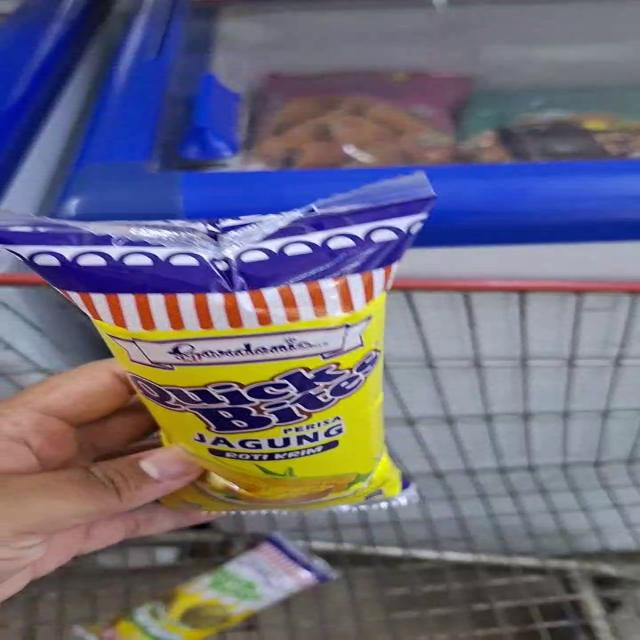Roti: (34, 214, 470, 514), (79, 534, 357, 640)
